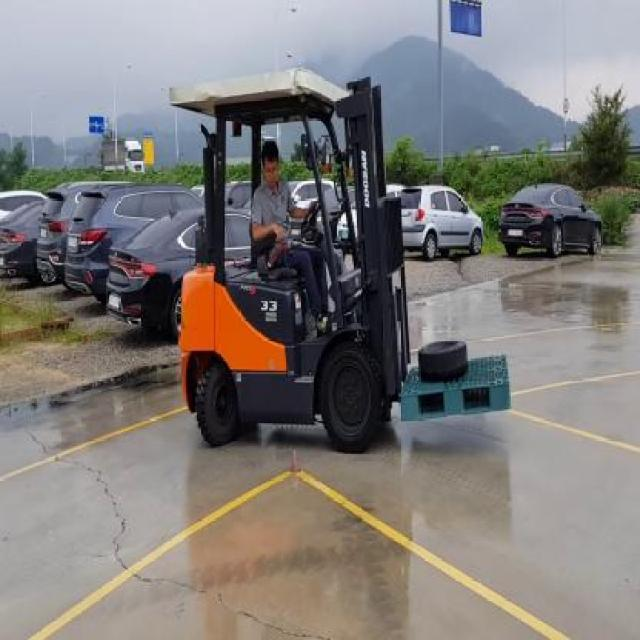forklift: (172, 79, 400, 460)
